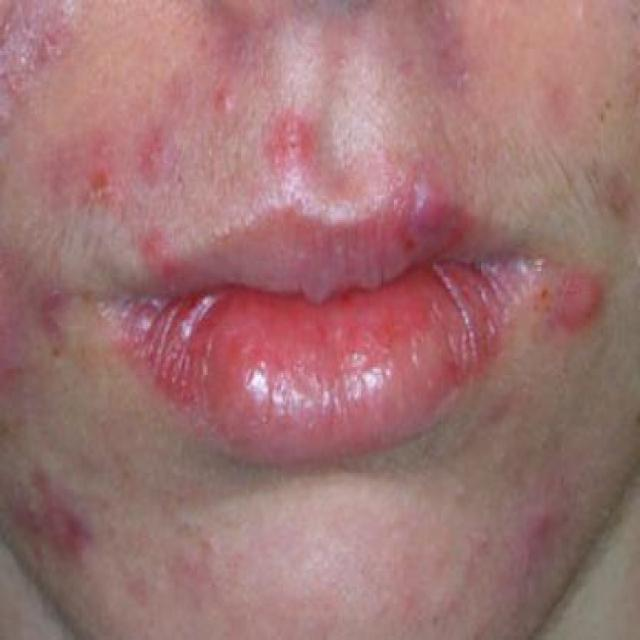nodules: (392, 163, 458, 249), (511, 483, 575, 550), (556, 269, 610, 332), (143, 130, 182, 190)
papules: (258, 96, 322, 190)
